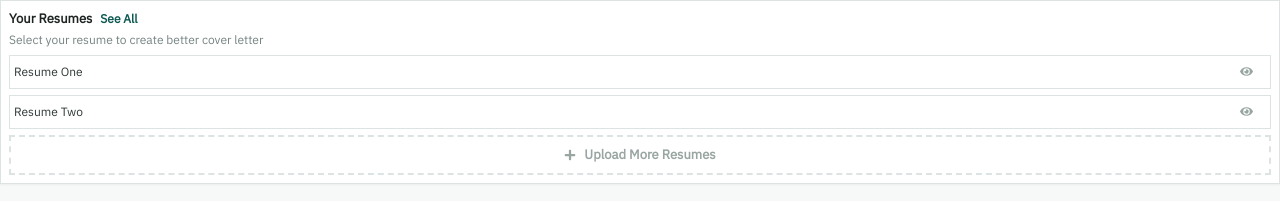
Scenario: ResumeSelector › when authenticated › shows "See All" with more than 1 resume and toggles to "Show Less"
Expected: the text "Resume One" is shown, 14,64 -> 82,78
Click the button "See All" at (119, 19), box 100,10 -> 138,28
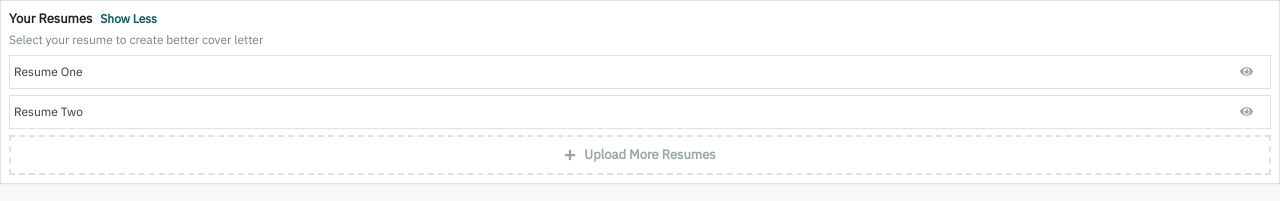
Expected: the button "Show Less" is shown, 100,10 -> 157,28
Expected: the button "See All" is gone
